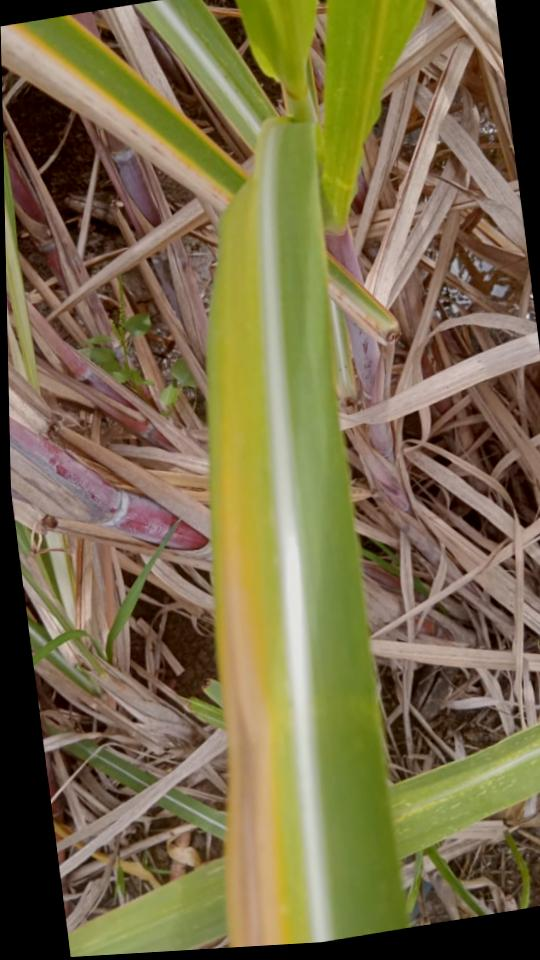Yellow: (210, 142, 294, 948), (1, 23, 236, 199), (57, 15, 252, 179)
